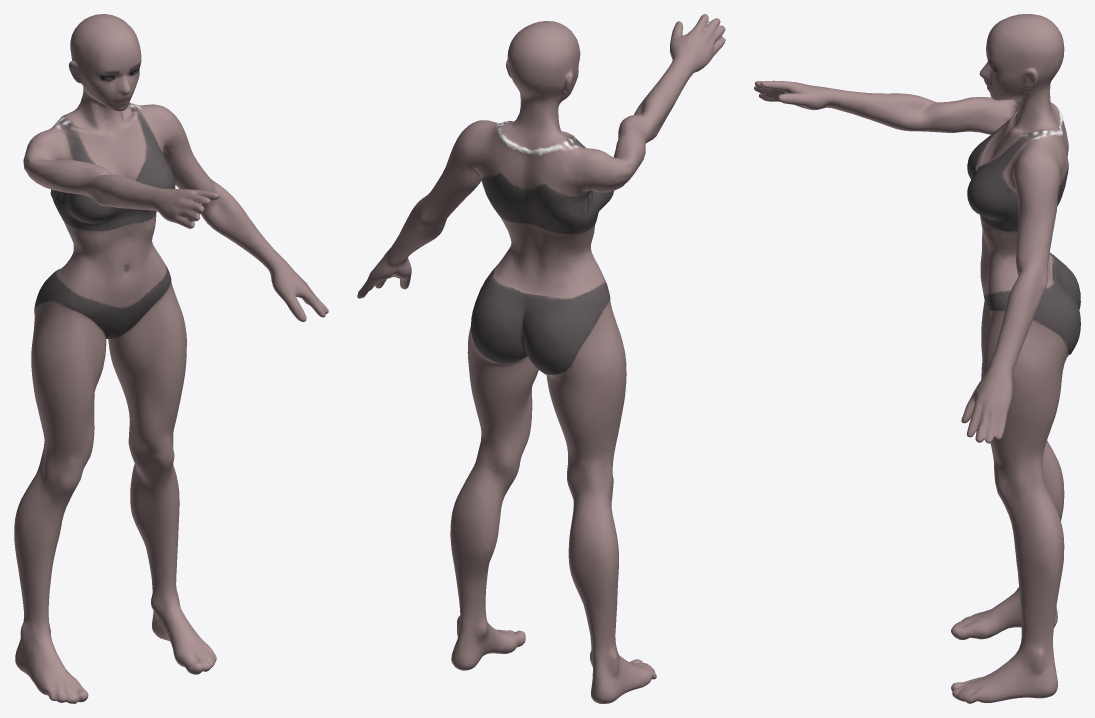
The model's file is 02-UpperArmL-90-child0-twist0-candidate.glb.
The picture shows the model from 3 angles, left to right: view 1: azimuth 30°, elevation 25°; view 2: azimuth 150°, elevation 25°; view 3: azimuth 270°, elevation 25°; orthographic projection.
Parts seen in each view (by area): view 1: candidate; view 2: candidate; view 3: candidate.
Part boxes in pixels (left/top/right/bottom): candidate: left=14, top=14, right=328, bottom=703; candidate: left=357, top=14, right=725, bottom=703; candidate: left=754, top=14, right=1080, bottom=703.
Size of the model in its own units: 0.4619 by 1 by 0.4573.
1 material, 1 textured.
